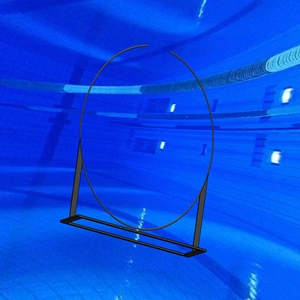circle: (59, 44, 216, 259)
